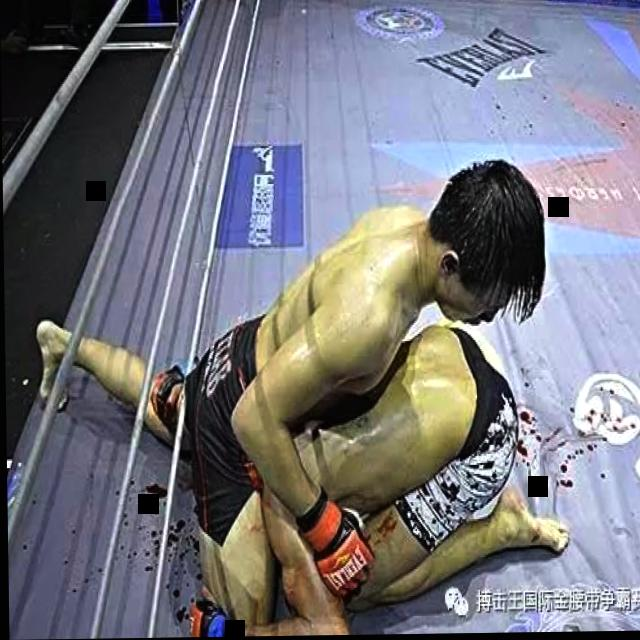Fall-Detected: (145, 266, 577, 638)
